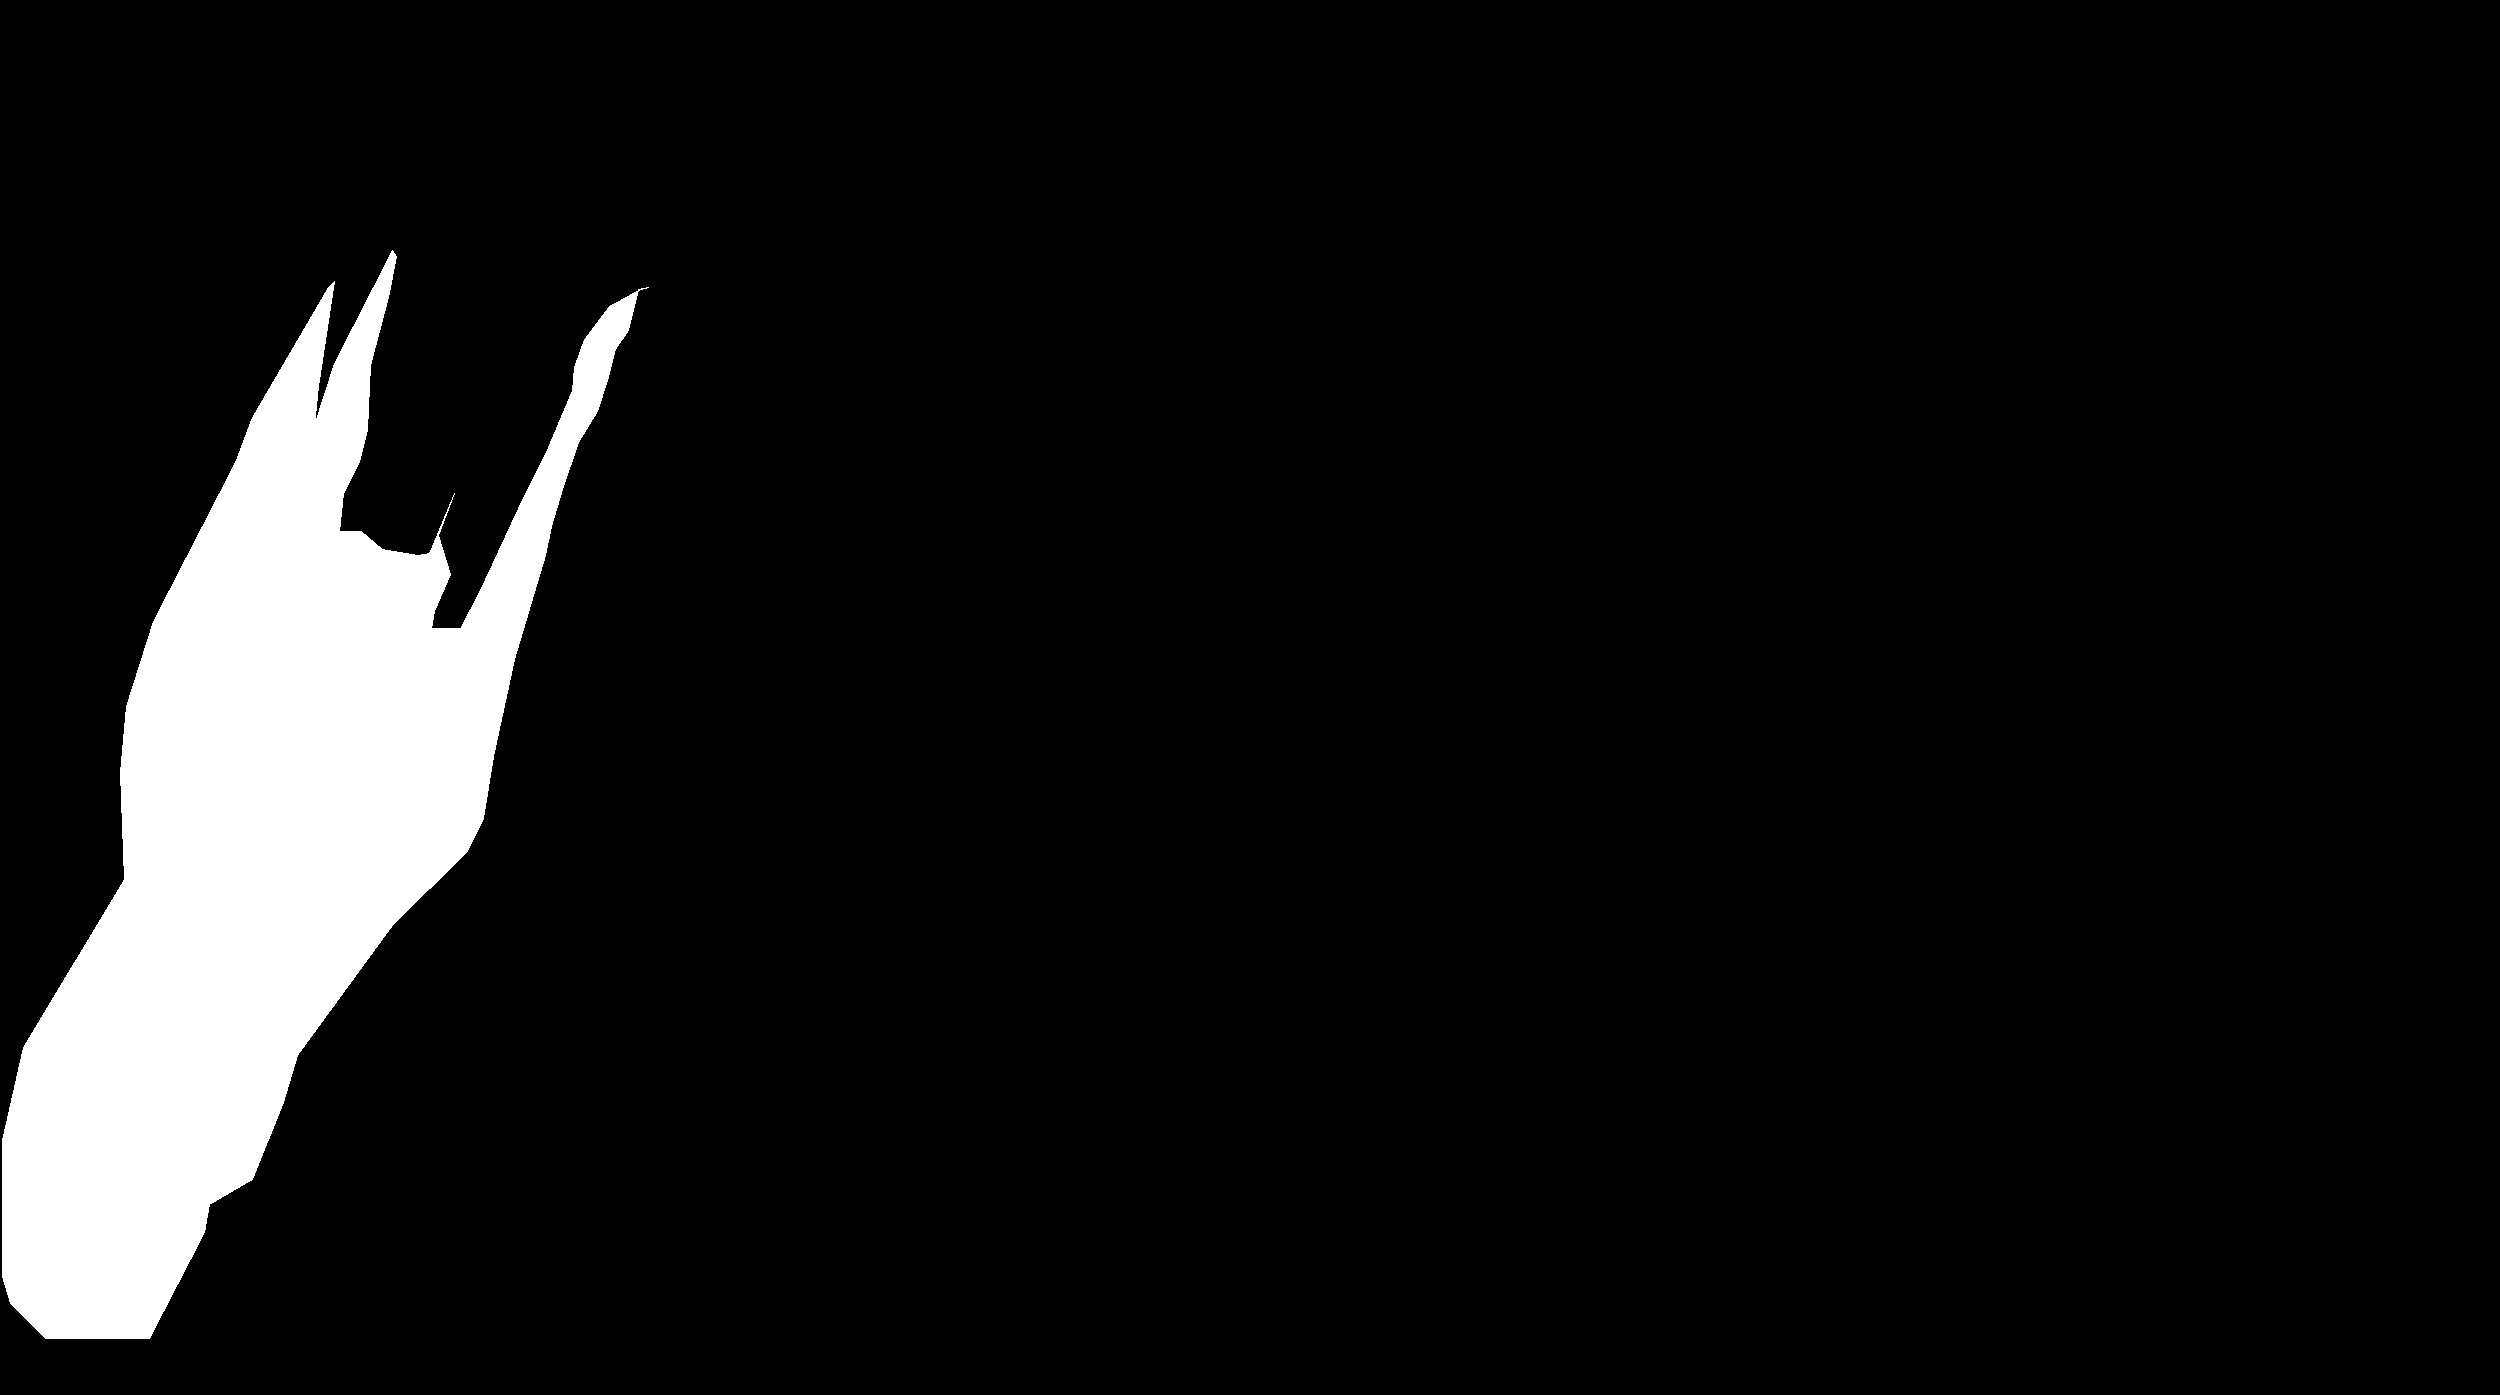Fire: (64, 266, 654, 1110)
